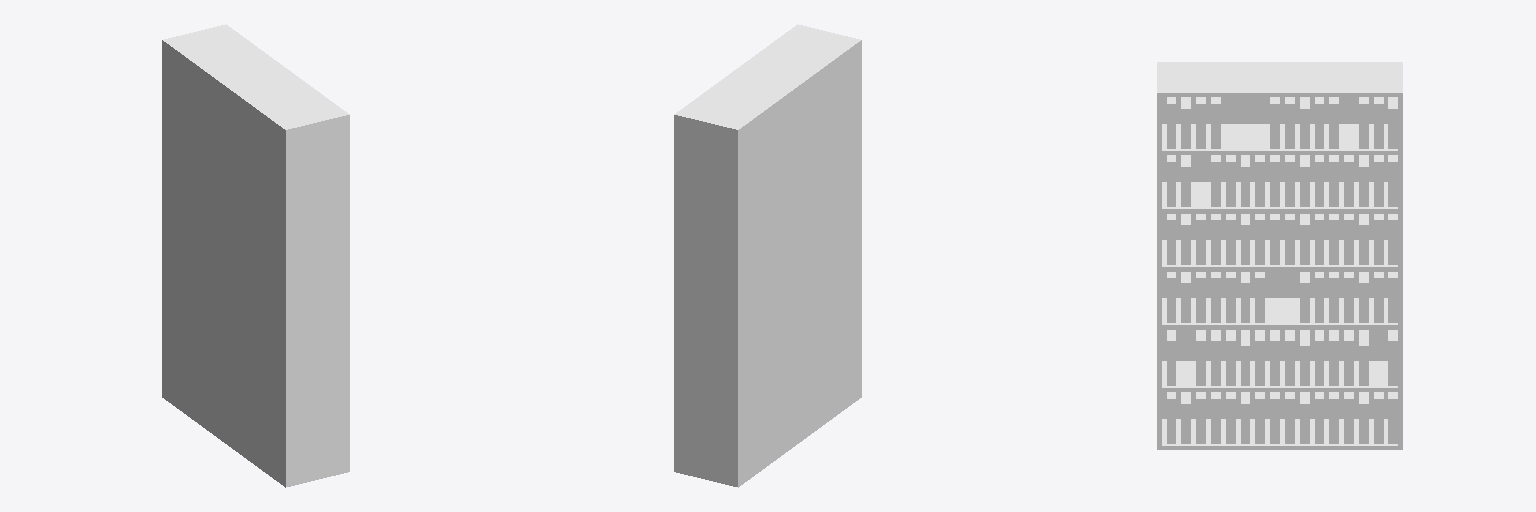
File: BookShelf.obj
3 views of the same model, side by side, from view 1: azimuth 30°, elevation 25°; view 2: azimuth 150°, elevation 25°; view 3: azimuth 270°, elevation 25° (orthographic).
Bounding box in the file's own units: 15 × 80 × 50.